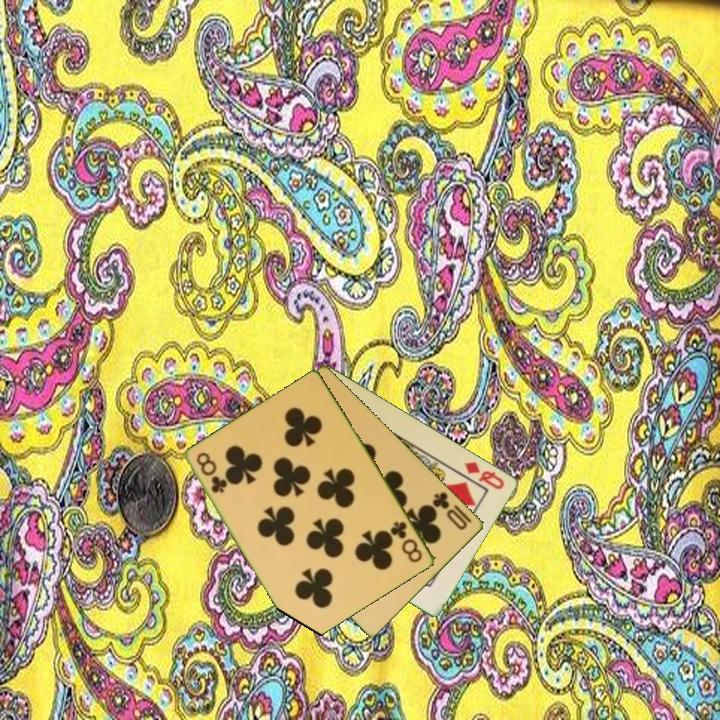10c: (429, 488, 471, 533)
8c: (387, 518, 426, 566), (193, 449, 230, 496)
Qd: (461, 458, 508, 492)
